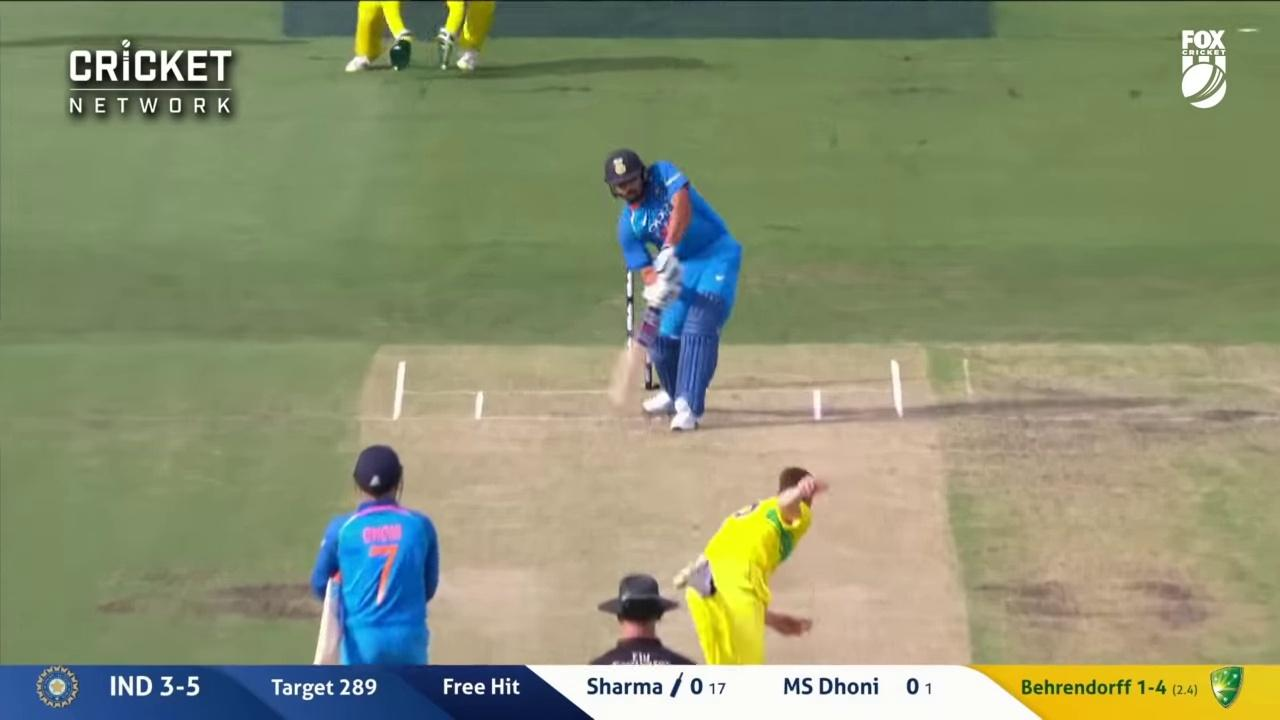batsman: (606, 151, 745, 433)
